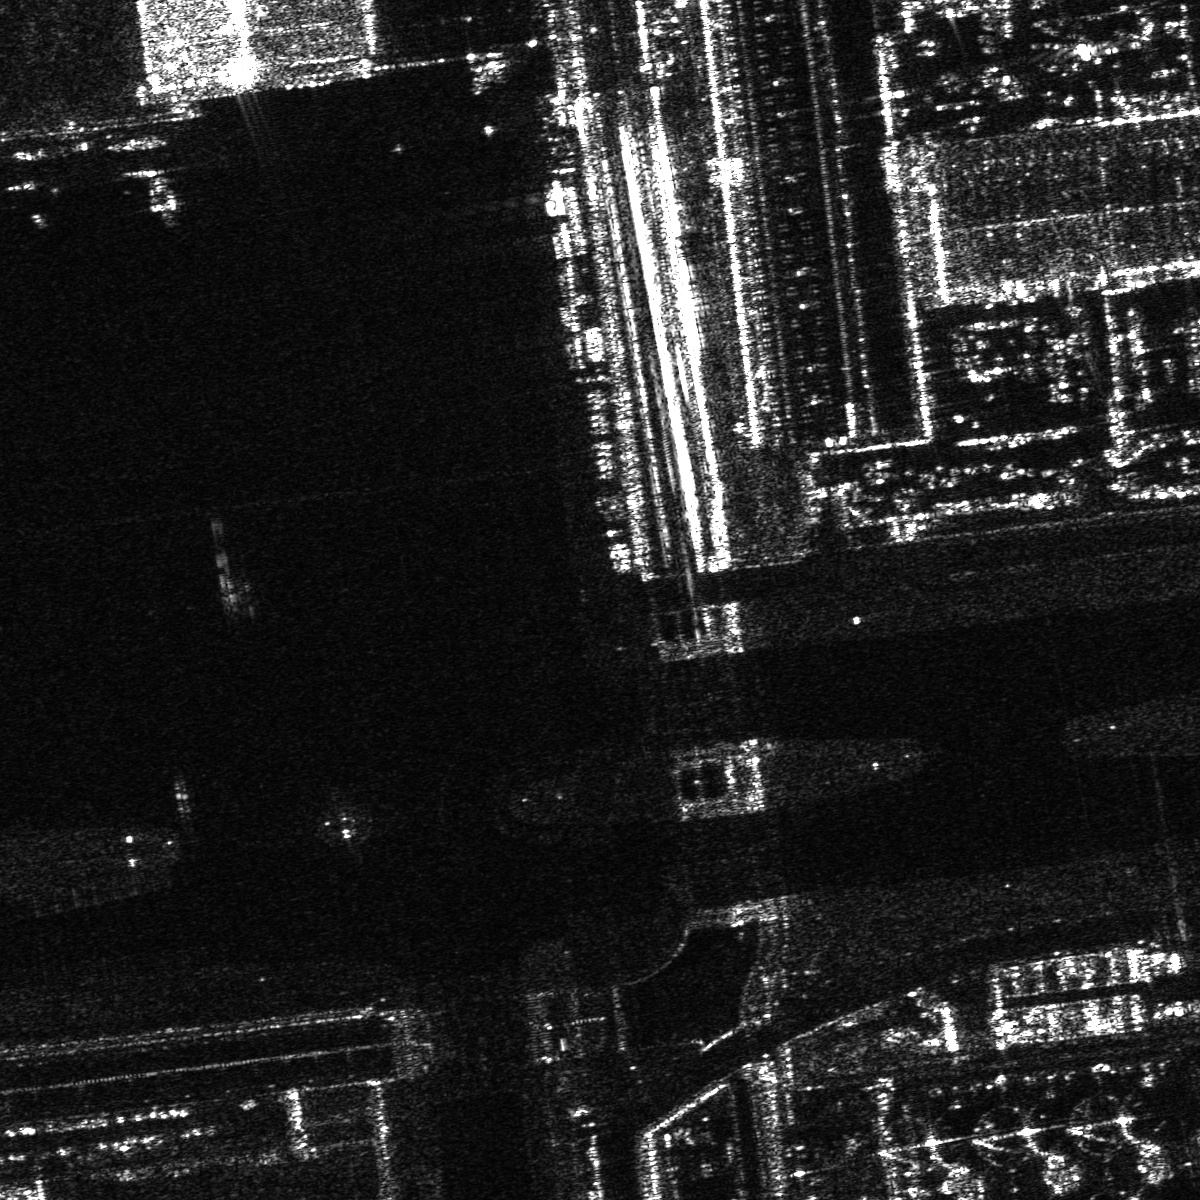A330: (316, 792, 369, 838)
